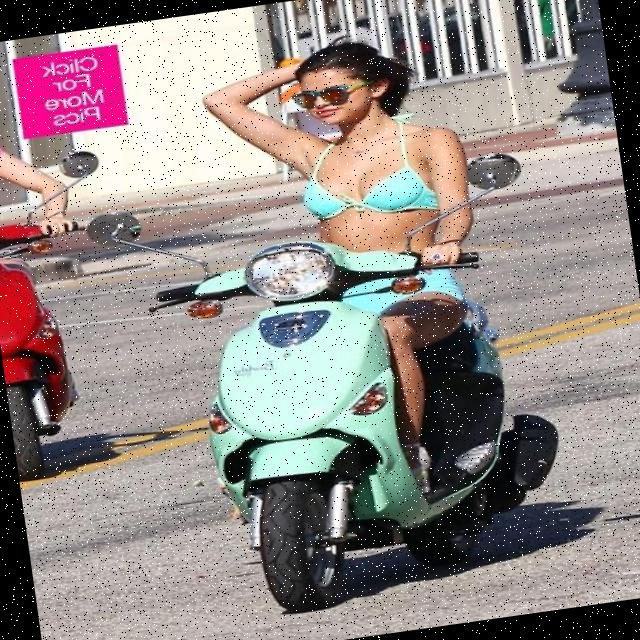No helmet: (294, 34, 408, 135)
